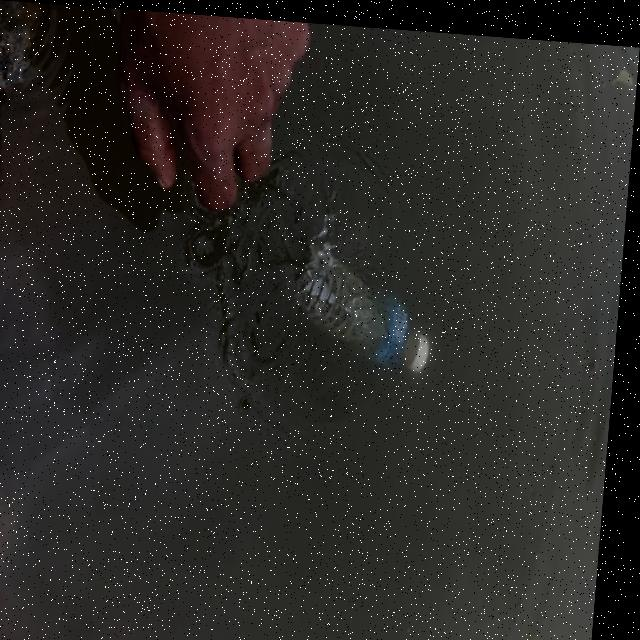waterbottle: (301, 255, 449, 388)
